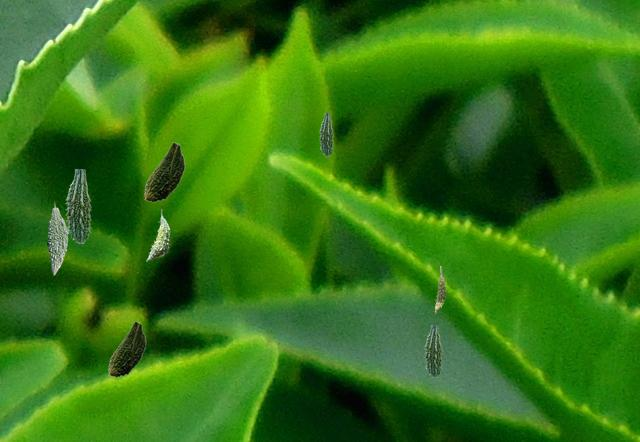ampalaya: (144, 142, 184, 201), (108, 321, 145, 376), (65, 169, 90, 242), (47, 201, 67, 274), (146, 209, 169, 260), (424, 325, 441, 376), (319, 113, 332, 155), (435, 266, 445, 312)
